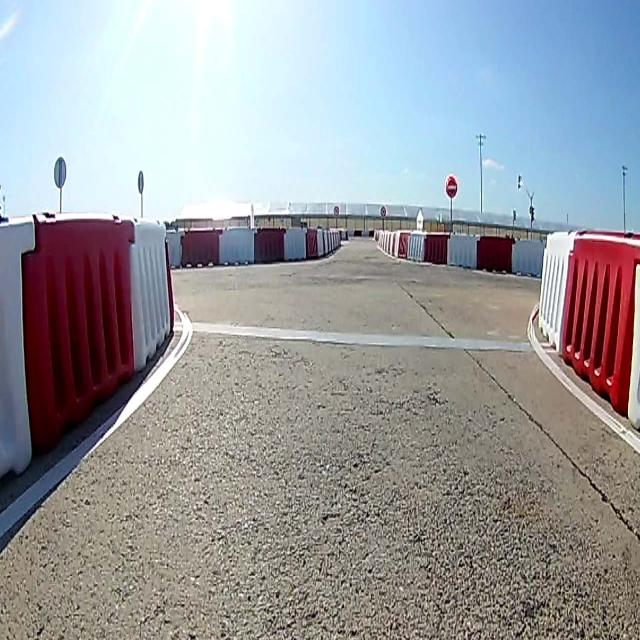girisyok: (445, 172, 459, 200)
